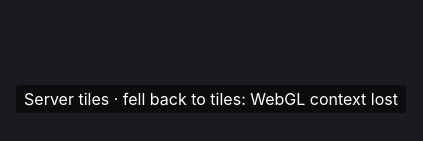
Test case: RenderLabel › opens every diagnostic message on a click, in full and in order, and closes again
The width and height of the screenshot is (423, 141).
Later steps or results of the test are not shown.
Click the button with test id "render-label": x=211, y=99 [16,85,406,113]
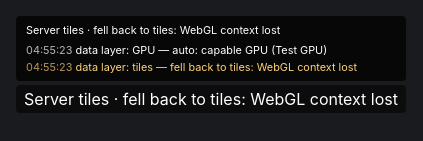
Expected: the text "Server tiles · fell back to tiles: WebGL context lost" is shown, [26,23,280,37]
